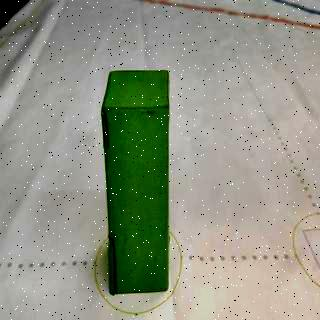greenbox: (100, 67, 174, 296)
